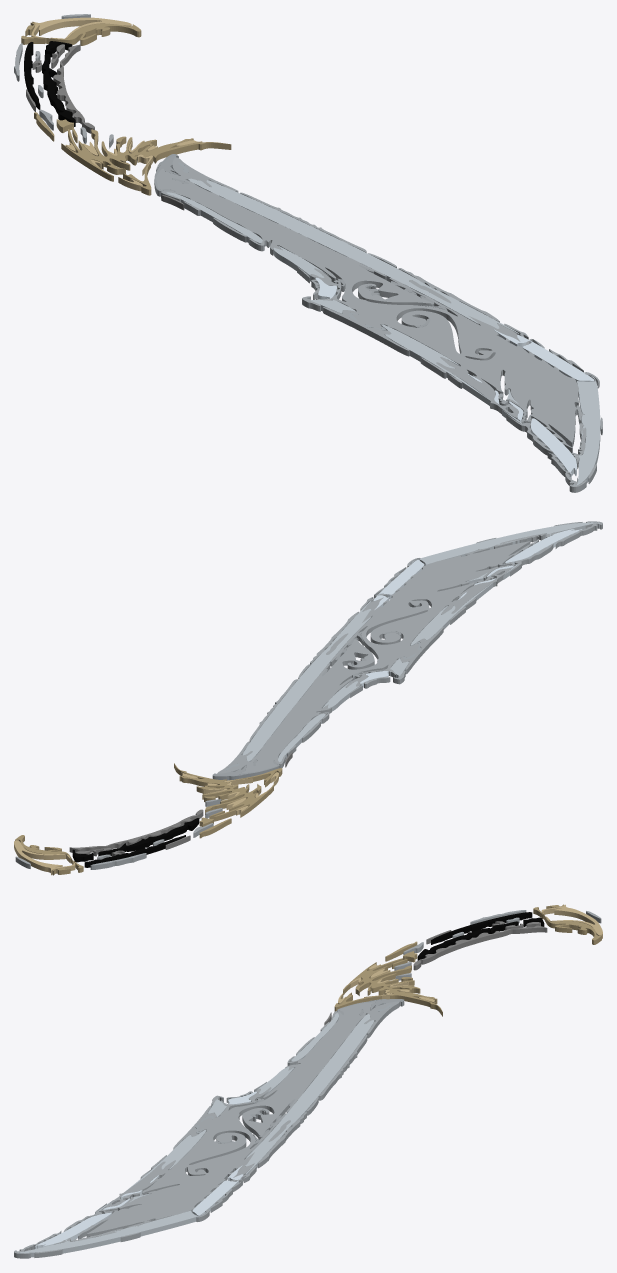
File: sword.gltf
3 views of the same model, one above another, from view 1: azimuth 30°, elevation 25°; view 2: azimuth 150°, elevation 25°; view 3: azimuth 330°, elevation 25° (orthographic). The views are drawn at different scales.
Visible parts, largest first — view 1: imagetostl_mesh; view 2: imagetostl_mesh; view 3: imagetostl_mesh.
Part boxes in pixels (x1,y1,x2,y2): imagetostl_mesh: (14, 14, 602, 492); imagetostl_mesh: (14, 521, 602, 875); imagetostl_mesh: (14, 904, 602, 1258).
Size of the model in its own units: 95.82 by 3 by 575.
